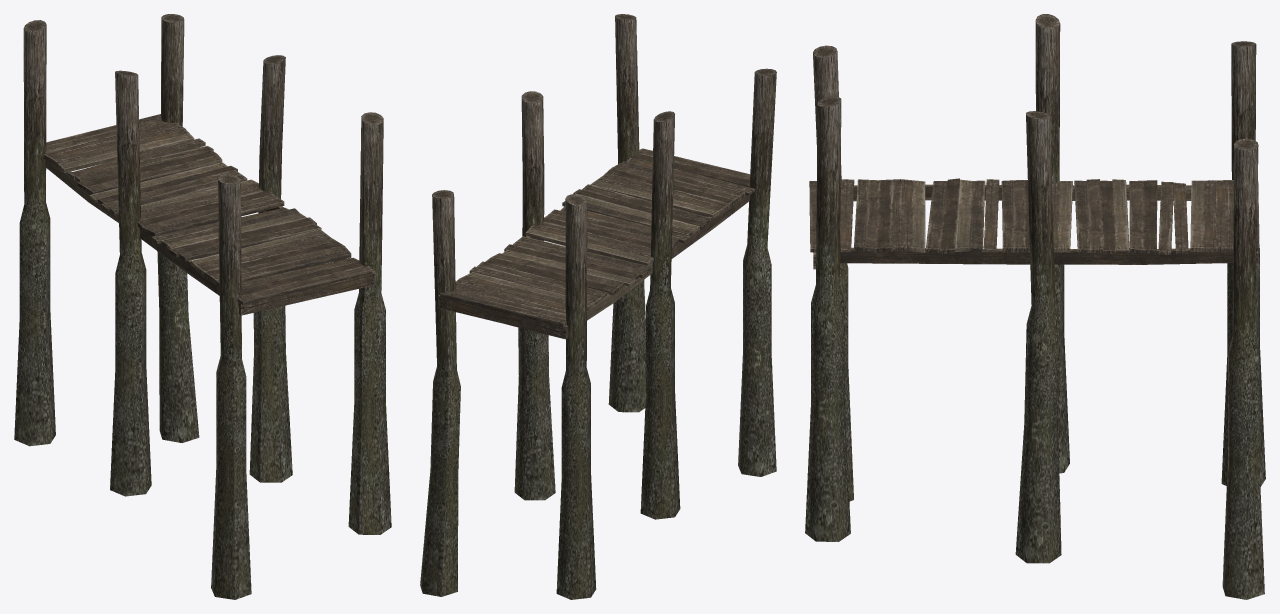
The model's file is eso_gu3_wooddocks8-transformed.glb.
3 views of the same model, side by side, from view 1: azimuth 30°, elevation 25°; view 2: azimuth 150°, elevation 25°; view 3: azimuth 270°, elevation 25° (orthographic). The views are drawn at different scales.
Parts seen in each view (by area): view 1: default; view 2: default; view 3: default.
Part boxes in pixels (left/top/right/bottom): default: left=14, top=14, right=391, bottom=599; default: left=420, top=14, right=776, bottom=599; default: left=805, top=14, right=1265, bottom=599.
Bounding box in the file's own units: 9.86 × 24.3 × 20.44.
1 material, 1 textured.
